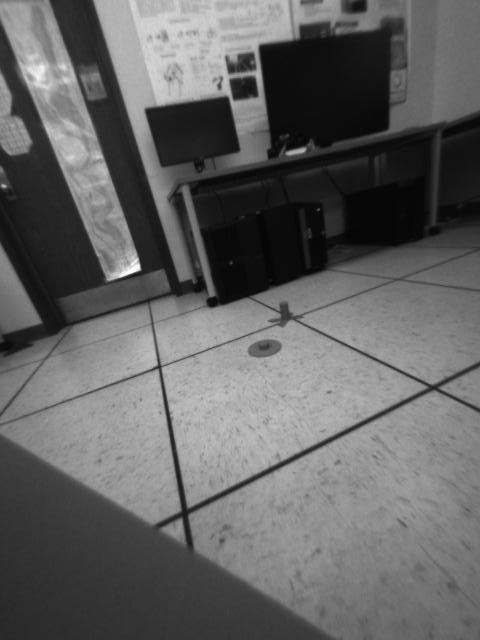X: (268, 301, 304, 327)
